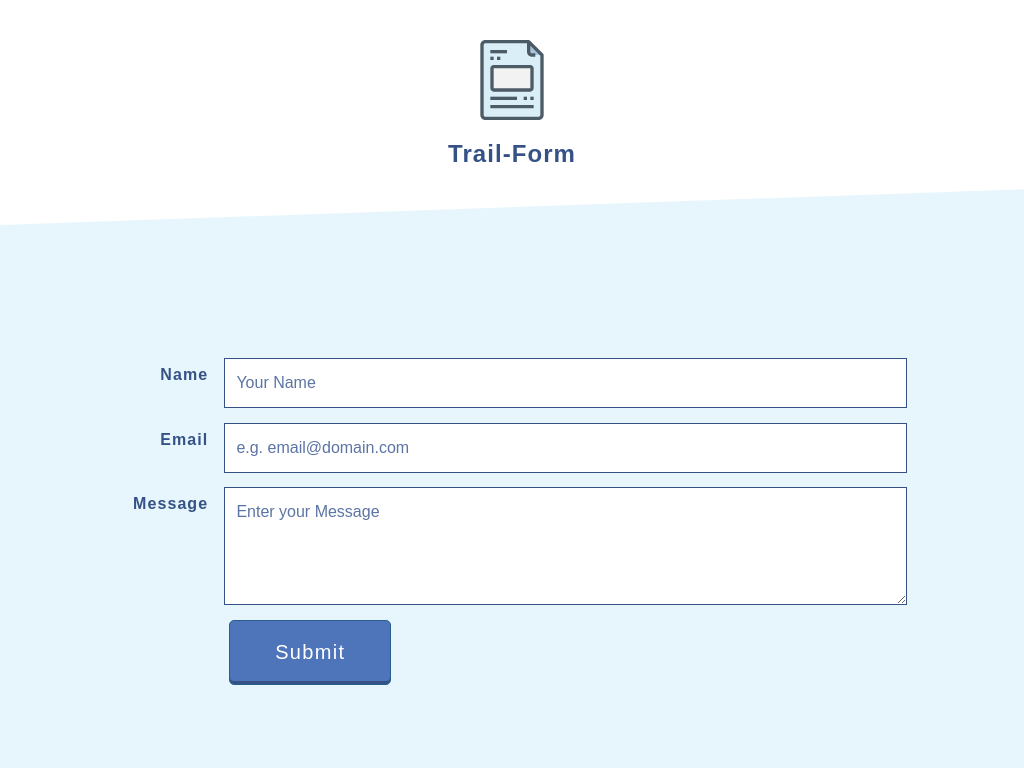
Test: Form Input › Doesn't Submit with out Message
In the field with placeholder "Your Name": (566, 383) top-left (224, 358), bottom-right (907, 408), type "John Doe"
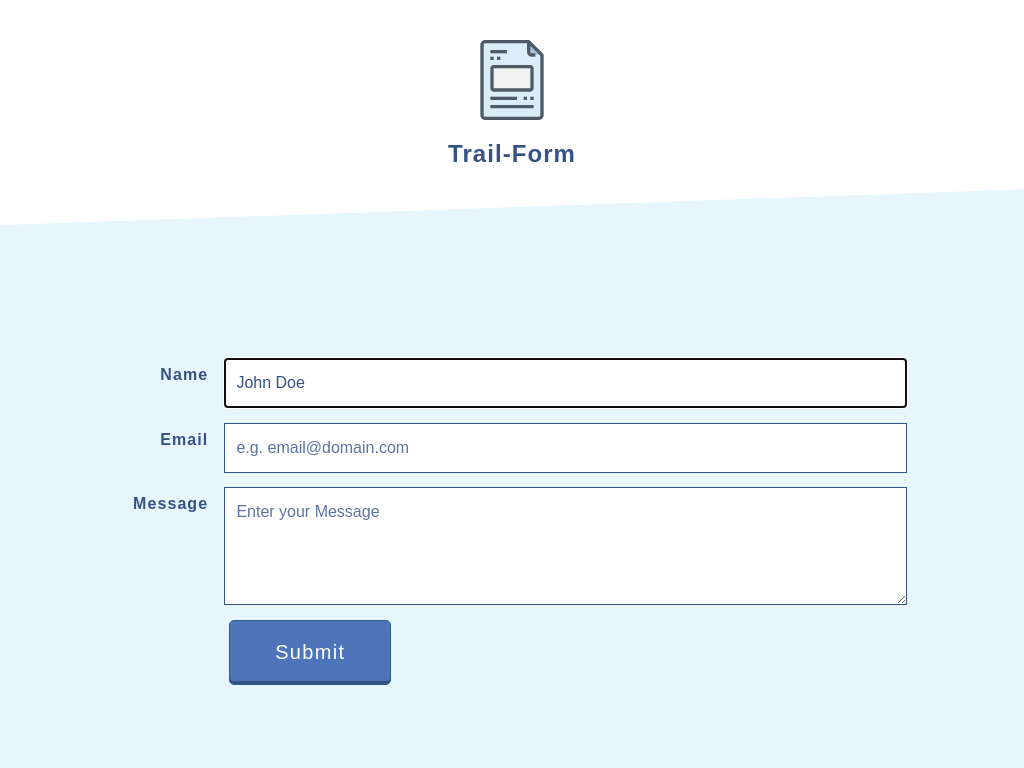
In the field with placeholder "e.g. email@domain.com": (566, 448) top-left (224, 423), bottom-right (907, 473), type "John.Doe@example.com"
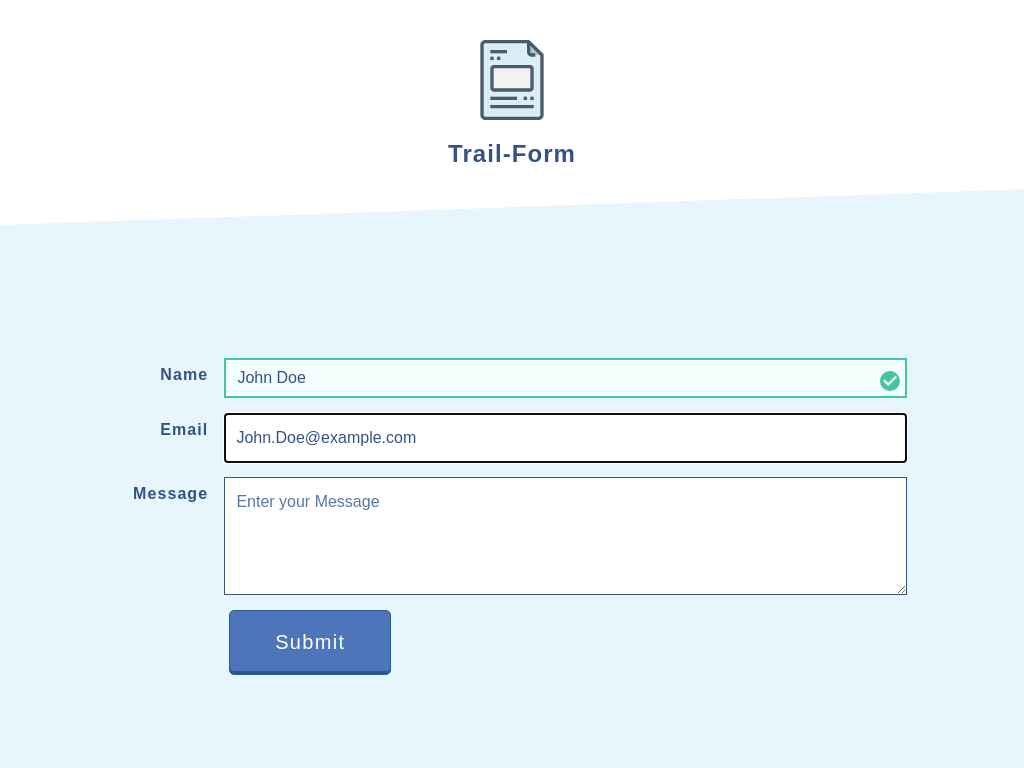
Click the button "Submit": (310, 643) top-left (229, 610), bottom-right (391, 675)
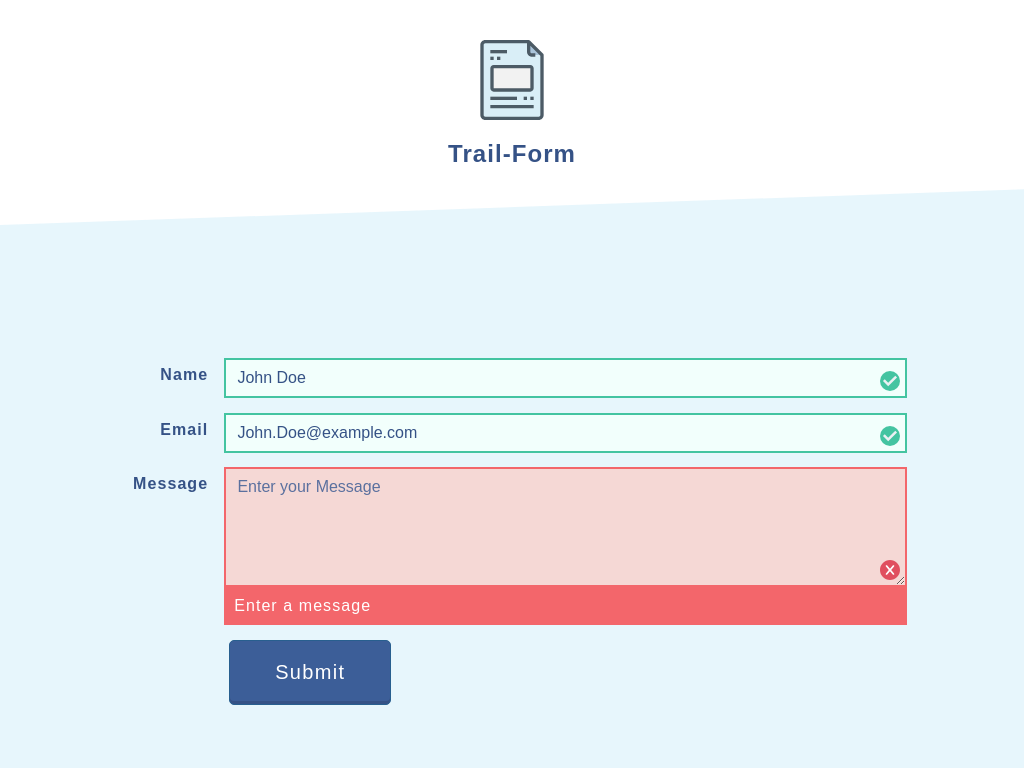
Expected: the number of elements with class "invalid" is 1, top-left (117, 463), bottom-right (907, 626)
Expected: the text with class "error-msg" reads "Enter a message", top-left (224, 587), bottom-right (907, 625)
